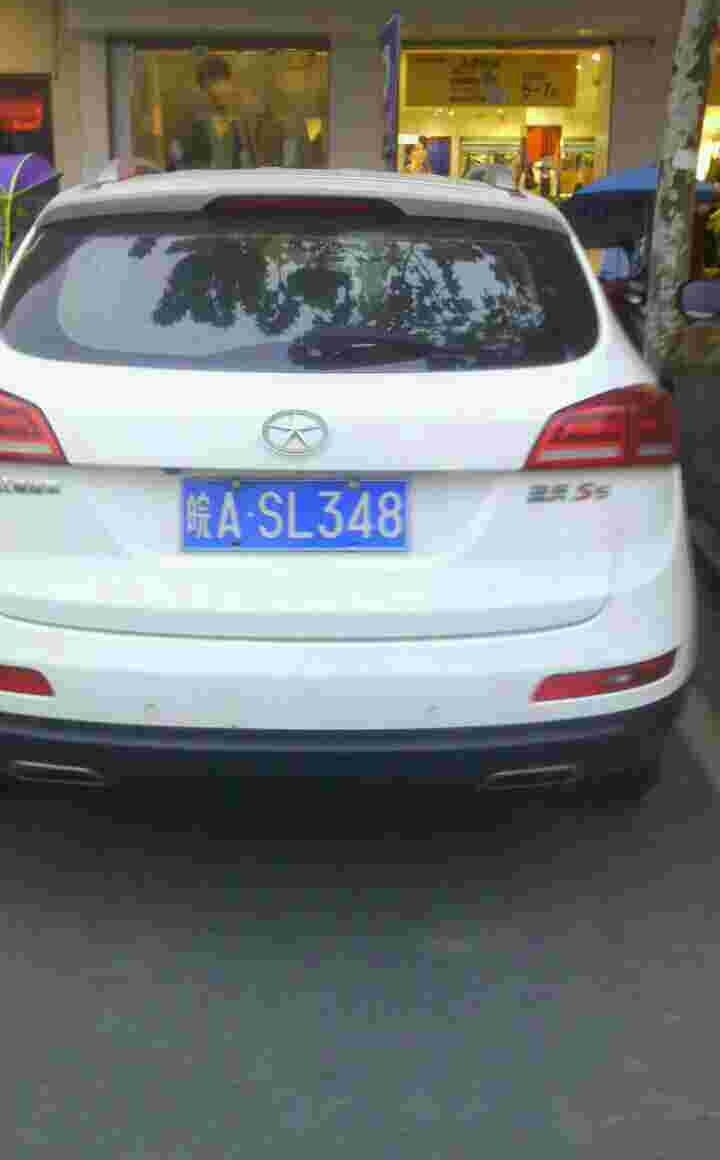car: (178, 476, 411, 550)
